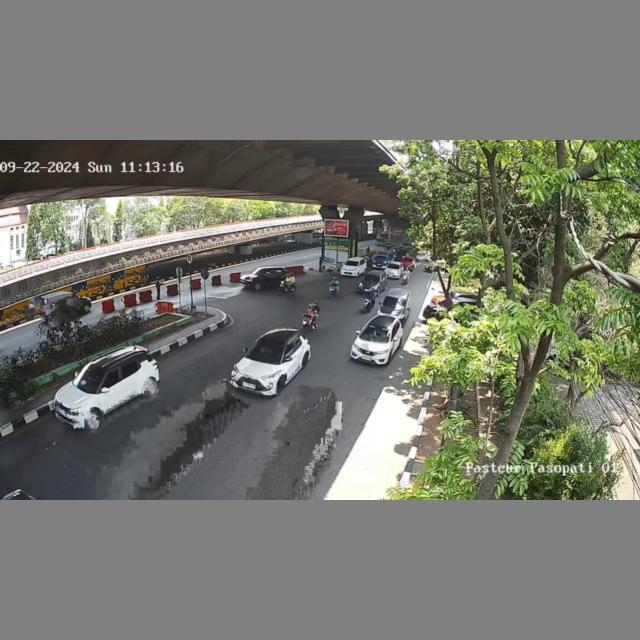windshield: (247, 342, 287, 363), (361, 322, 393, 345), (76, 365, 105, 388), (383, 296, 405, 310)
